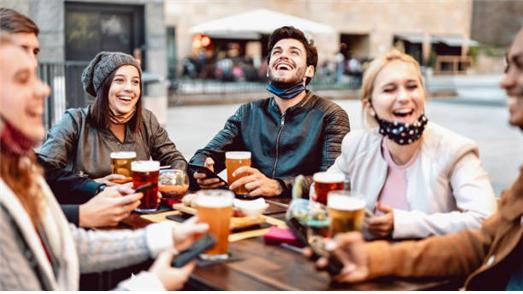alcohol: (192, 188, 231, 261), (326, 193, 366, 248), (129, 162, 160, 214), (224, 151, 254, 194), (313, 173, 346, 208), (109, 152, 135, 185)
